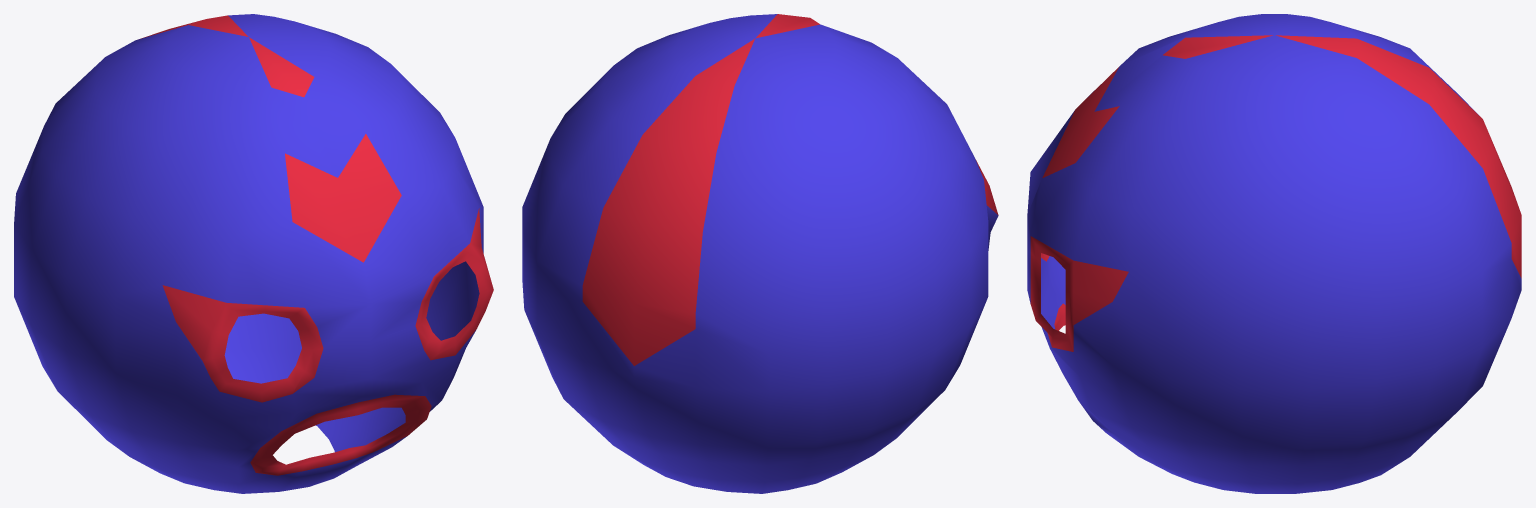
File: CUWrestleMask.fbx
3 views of the same model, side by side, from view 1: azimuth 30°, elevation 25°; view 2: azimuth 150°, elevation 25°; view 3: azimuth 270°, elevation 25° (orthographic).
Visible parts, largest first — view 1: Lucha Mask; view 2: Lucha Mask; view 3: Lucha Mask.
Part boxes in pixels (x1,y1,x2,y2): Lucha Mask: (14, 14, 493, 493); Lucha Mask: (522, 14, 998, 493); Lucha Mask: (1027, 14, 1521, 493).
Bounding box in the file's own units: 147 × 146 × 156.
